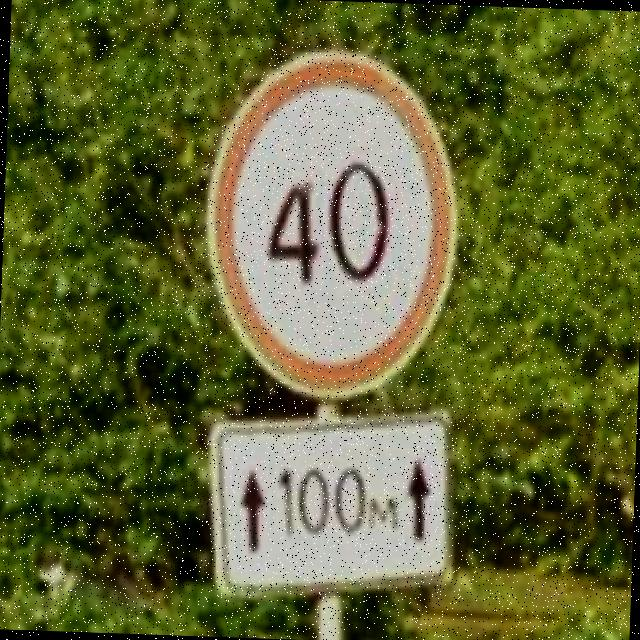Ograniczenie predkosci do 40: (199, 46, 467, 407)
